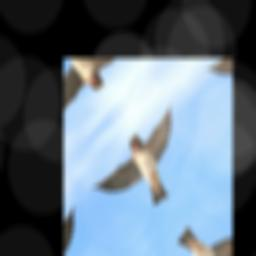Swallow: (86, 95, 209, 242)
